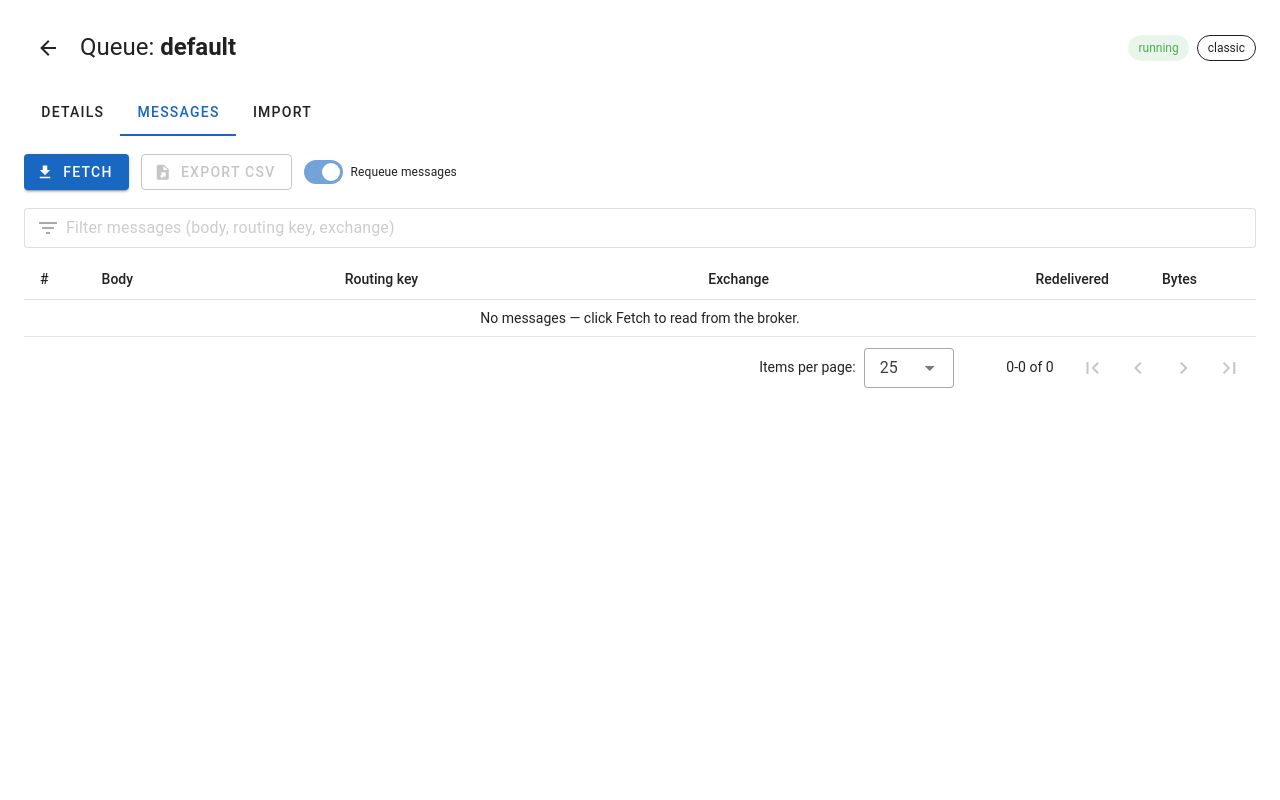
QueueDetailView › renders the queue name from props and queue details
Click the tab "Details" at (72, 112), box [24, 88, 120, 136]
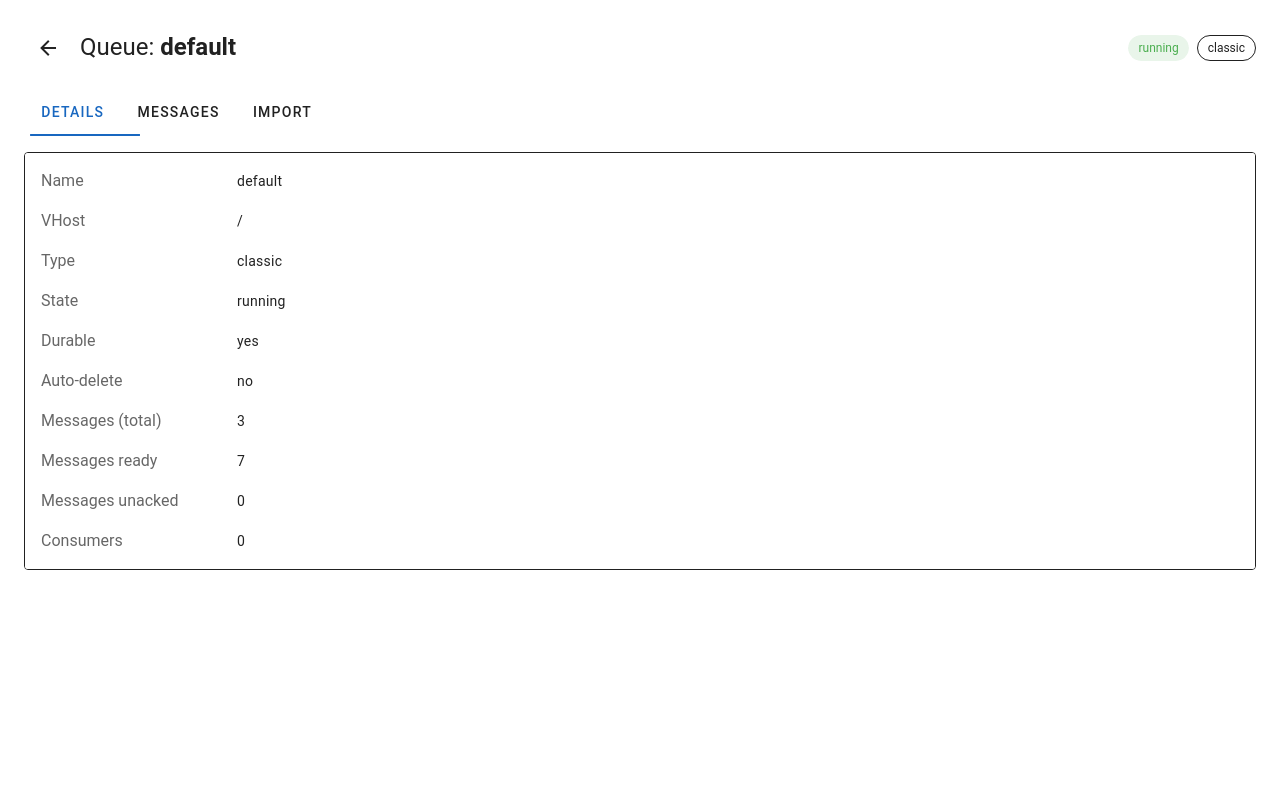
Result: the text "Messages ready" is shown at [41, 451, 157, 470]
Result: the text "7" is shown at [237, 453, 245, 469]
